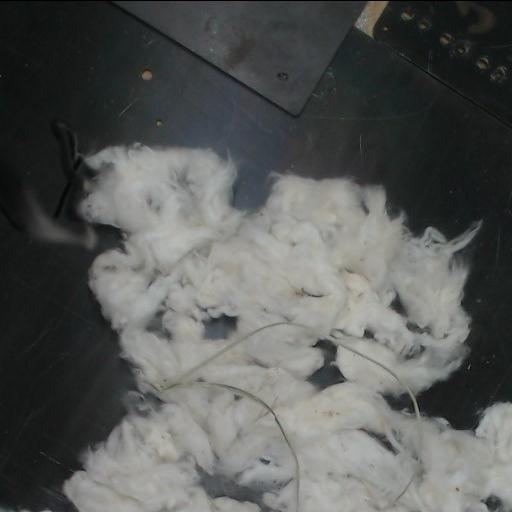conveyor belt: (0, 1, 511, 427), (0, 216, 134, 512)
cotton: (64, 144, 511, 512)
thread: (145, 321, 299, 512), (322, 330, 421, 420)
